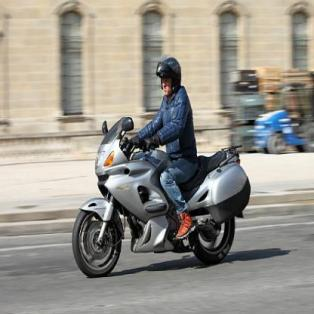Motocicleta: (69, 106, 249, 276)
